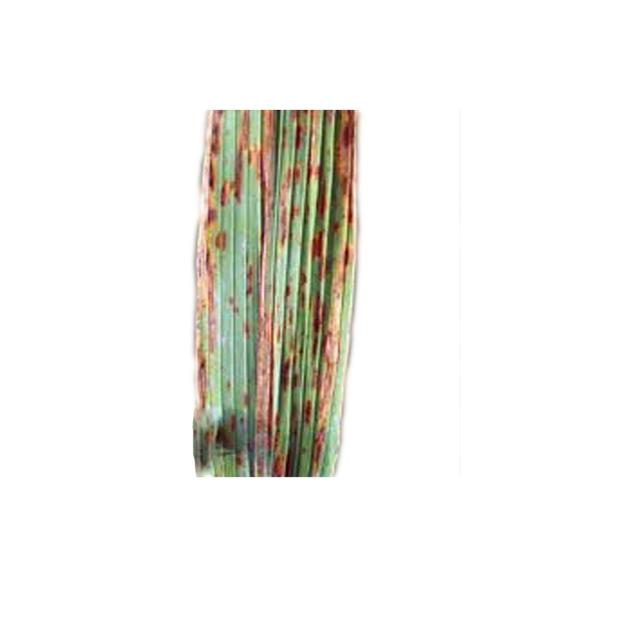Narrow brown: (168, 98, 380, 527)
